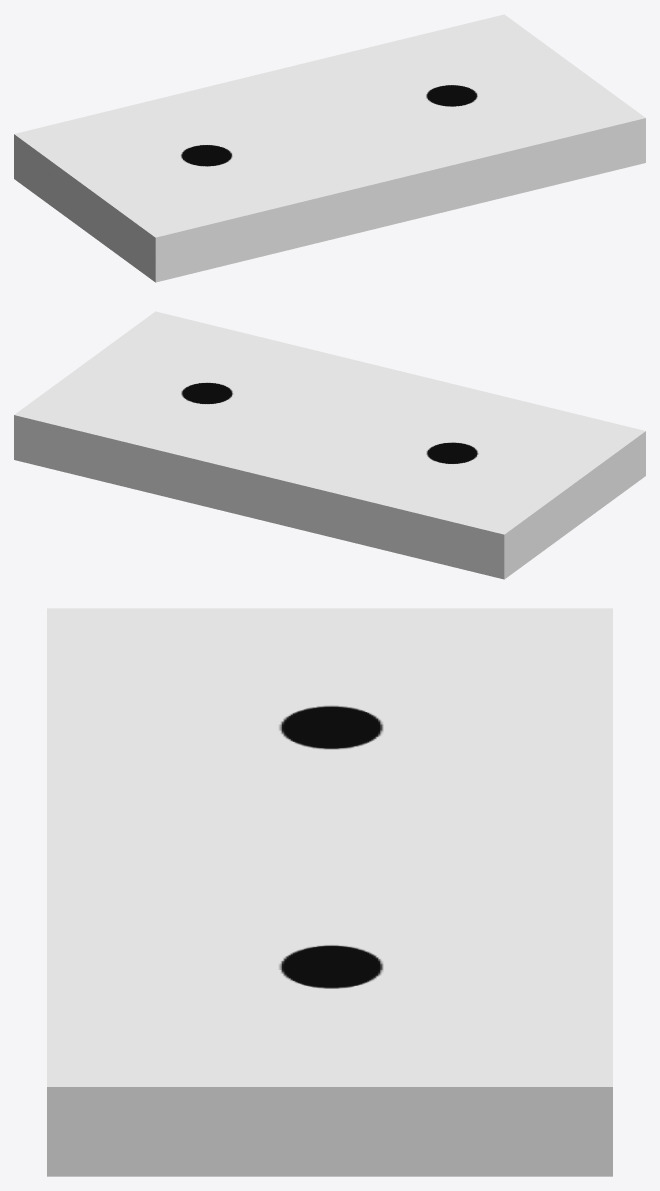
3 renders of one model, top to bottom at view 1: azimuth 30°, elevation 25°; view 2: azimuth 150°, elevation 25°; view 3: azimuth 270°, elevation 25°, orthographic. The views are drawn at different scales.
Visible parts, largest first — view 1: Dom.010_low.001; view 2: Dom.010_low.001; view 3: Dom.010_low.001.
Part boxes in pixels (x1,y1,x2,y2): Dom.010_low.001: (14, 14, 645, 282); Dom.010_low.001: (14, 311, 645, 579); Dom.010_low.001: (47, 608, 612, 1176).
Size of the model in its own units: 4 by 0.35 by 2.
Materials: 1 (1 with a texture image).
